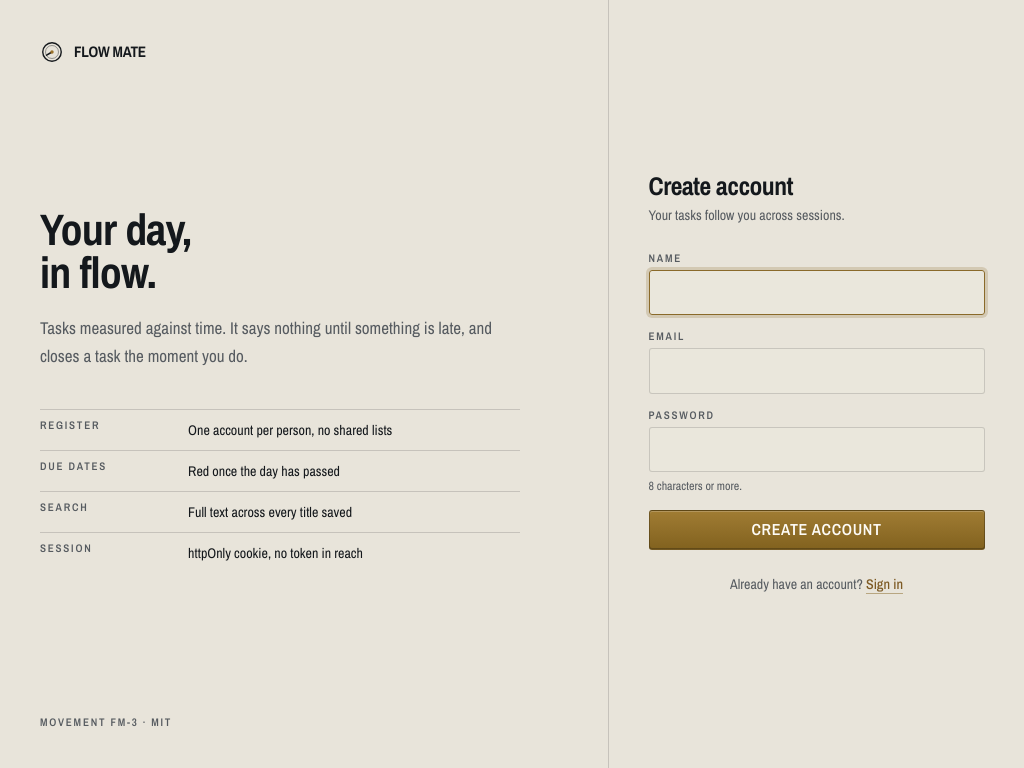
Test: AuthPage: register › rejects short passwords with a hint
Type "Vinny" into the field labelled "Name" at (816, 293), box top-left (648, 270), bottom-right (984, 316)
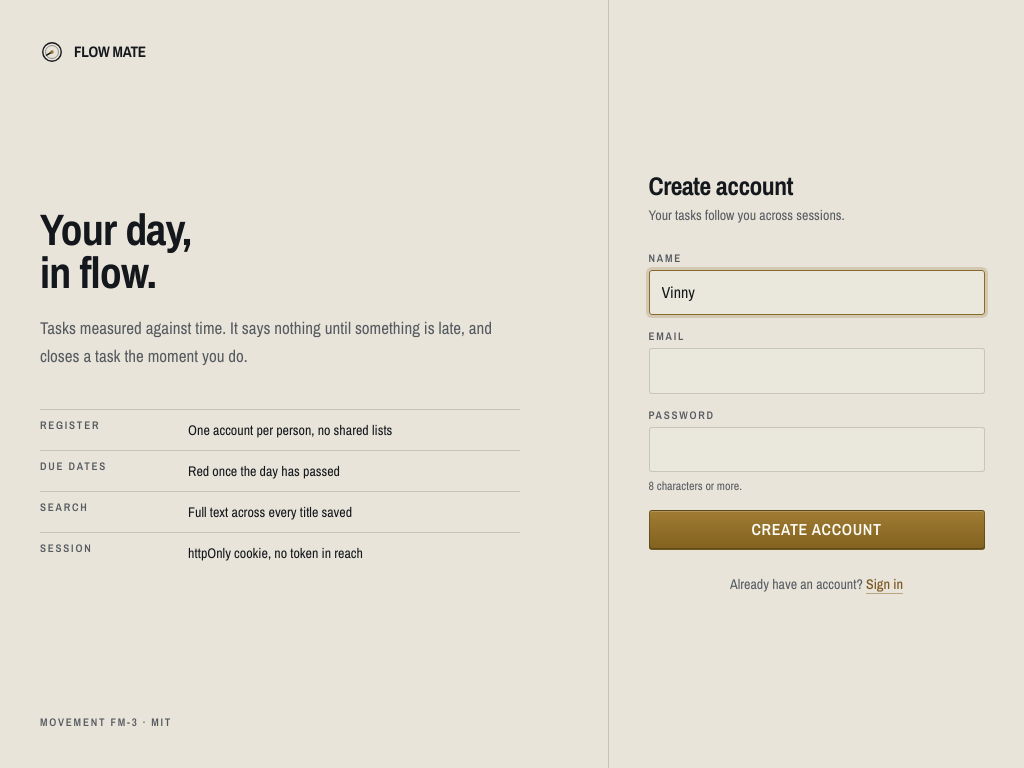
Type "vinny@example.com" into the field labelled "Email" at (816, 371), box top-left (648, 348), bottom-right (984, 394)
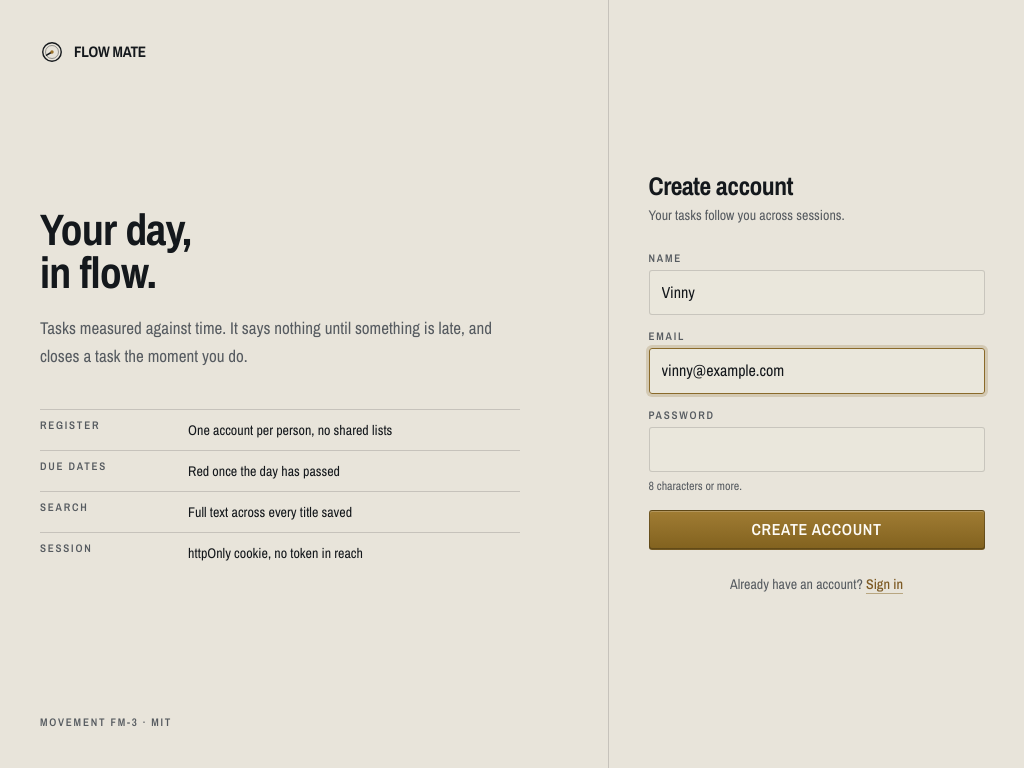
Type "short" into the password field labelled "Password" at (816, 449), box top-left (648, 427), bottom-right (984, 472)
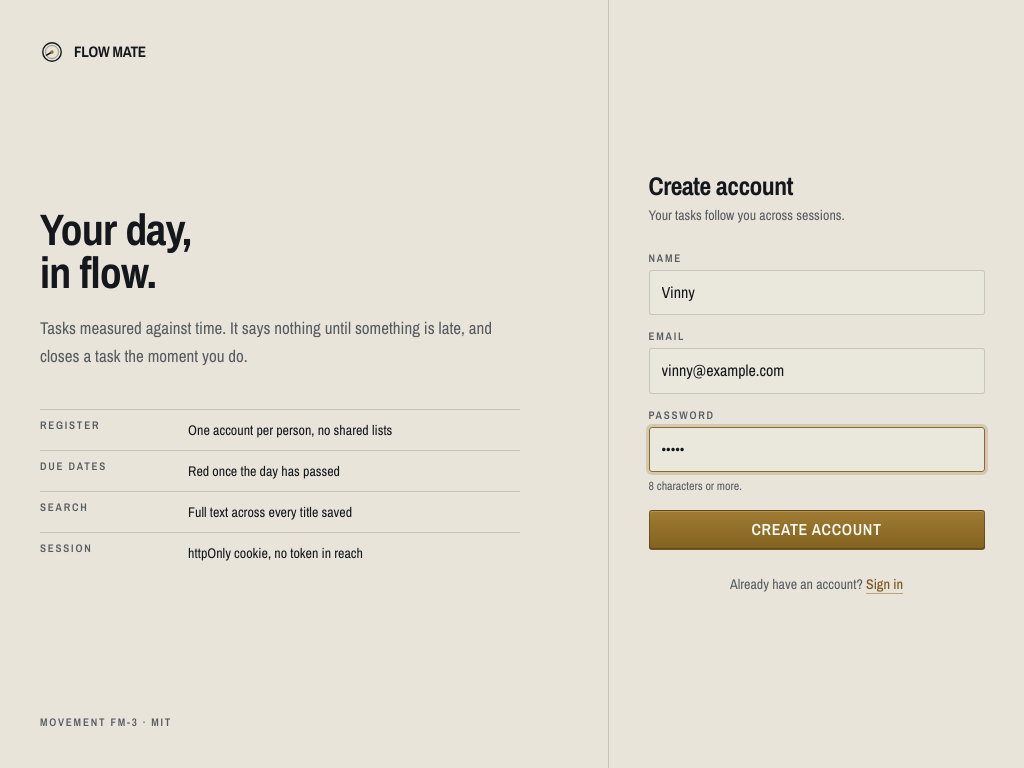
Click the button "Create account" at (816, 530), box top-left (648, 510), bottom-right (984, 550)
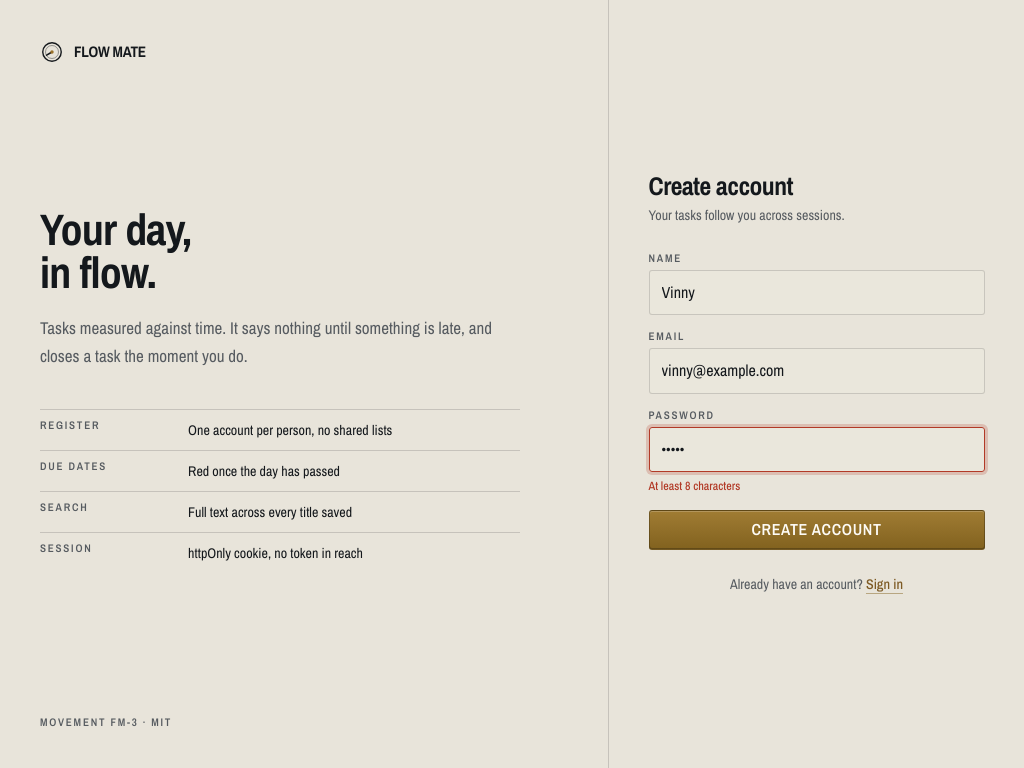
Result: the text "At least 8 characters" is shown at top-left (648, 478), bottom-right (740, 494)
